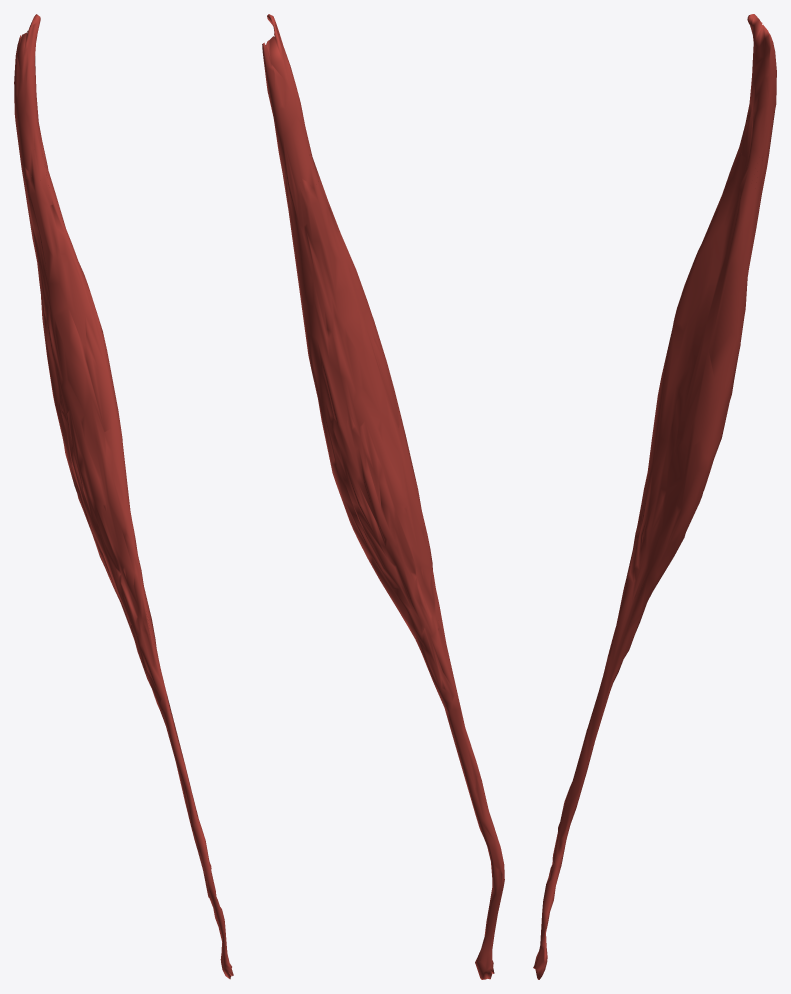
The model's file is musculos-extensor-carpi-radialis-brevis-r.glb.
The picture shows the model from 3 angles, left to right: view 1: azimuth 90°, elevation 25°; view 2: azimuth 150°, elevation 25°; view 3: azimuth 270°, elevation 25°; orthographic projection. The views are drawn at different scales.
Parts seen in each view (by area): view 1: Extensor carpi radialis brevis.r; view 2: Extensor carpi radialis brevis.r; view 3: Extensor carpi radialis brevis.r.
Boxes of the visible parts, x1=… form: Extensor carpi radialis brevis.r: x1=14, y1=14, x2=233, y2=979; Extensor carpi radialis brevis.r: x1=262, y1=14, x2=504, y2=979; Extensor carpi radialis brevis.r: x1=533, y1=14, x2=776, y2=979.
Bounding box in the file's own units: 0.0458 × 0.3127 × 0.0679.
